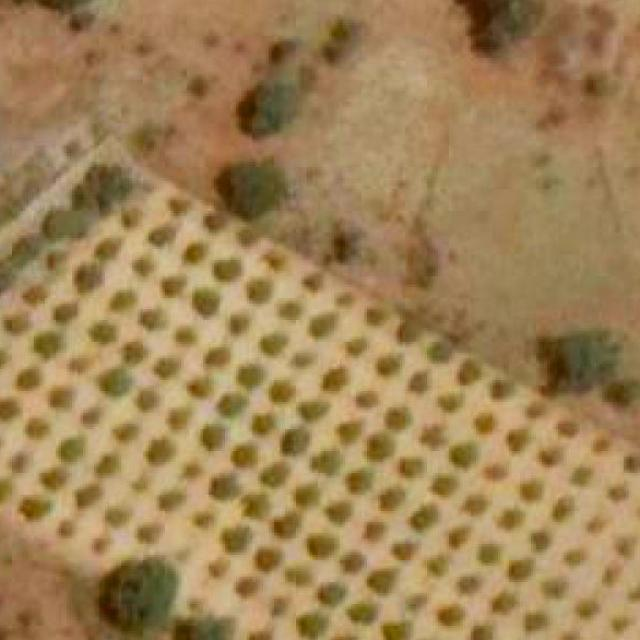Tree: (104, 555, 174, 634), (211, 154, 285, 220), (534, 334, 611, 392), (460, 0, 531, 52), (244, 85, 296, 138), (40, 205, 89, 248), (602, 373, 640, 413), (332, 10, 371, 46), (174, 617, 232, 640), (578, 68, 615, 102), (141, 435, 177, 465), (181, 68, 214, 100), (268, 34, 300, 65), (74, 262, 105, 293), (418, 421, 449, 451), (407, 503, 438, 531), (100, 367, 132, 394), (214, 391, 245, 416), (20, 495, 50, 520), (34, 329, 61, 356), (492, 587, 518, 615), (0, 268, 20, 304), (274, 511, 302, 536), (238, 494, 269, 516), (507, 558, 534, 583), (258, 462, 285, 487), (56, 438, 86, 460), (89, 320, 119, 342), (195, 290, 218, 318), (201, 424, 226, 449), (299, 615, 327, 637), (255, 547, 283, 569), (250, 416, 278, 438), (50, 302, 78, 324), (15, 367, 43, 389), (121, 342, 149, 364), (438, 604, 465, 626), (223, 528, 250, 550), (105, 506, 132, 528), (138, 309, 165, 331), (261, 334, 288, 356), (396, 457, 427, 476), (370, 569, 396, 591), (208, 476, 234, 498), (168, 408, 194, 430), (148, 225, 174, 247), (454, 573, 482, 593), (157, 489, 185, 509), (136, 388, 160, 411), (272, 380, 297, 402), (285, 429, 310, 451), (367, 434, 392, 456), (381, 487, 406, 509), (345, 470, 370, 492), (94, 238, 119, 260), (316, 451, 343, 471), (321, 584, 348, 604), (23, 284, 50, 304), (476, 544, 504, 563), (39, 468, 67, 487), (4, 315, 32, 334), (76, 484, 100, 506), (136, 522, 160, 544), (26, 418, 52, 438), (110, 289, 136, 309), (214, 260, 239, 280), (310, 535, 335, 555), (407, 369, 427, 394), (50, 388, 76, 407), (323, 367, 345, 389), (246, 280, 268, 302), (312, 312, 334, 334), (186, 374, 208, 396), (94, 454, 116, 476), (278, 300, 302, 320), (449, 522, 468, 547), (162, 276, 185, 296), (184, 240, 207, 260), (498, 511, 525, 528), (436, 394, 463, 411), (110, 424, 138, 440), (509, 429, 529, 451), (326, 500, 348, 520), (298, 482, 318, 504), (206, 557, 228, 577), (236, 227, 258, 247), (0, 399, 19, 422), (392, 542, 419, 558), (383, 623, 408, 640), (386, 410, 408, 429), (452, 446, 474, 465), (520, 481, 542, 500), (460, 362, 479, 384), (542, 579, 564, 598), (523, 612, 545, 631), (427, 555, 449, 574), (236, 577, 258, 596), (531, 528, 550, 550), (616, 539, 638, 558), (364, 516, 383, 538), (338, 424, 360, 443), (290, 350, 312, 369), (364, 306, 386, 325), (350, 604, 376, 620), (380, 355, 400, 375), (571, 464, 591, 484), (405, 593, 430, 609), (285, 566, 310, 582), (300, 402, 324, 418), (205, 211, 225, 230), (578, 598, 600, 615), (623, 580, 640, 602), (470, 623, 492, 640), (623, 451, 640, 473), (154, 358, 176, 375), (80, 407, 102, 424), (263, 252, 285, 269), (44, 252, 66, 269), (233, 446, 256, 462), (231, 315, 250, 334), (239, 367, 261, 383), (430, 342, 452, 358), (343, 553, 365, 569), (354, 391, 376, 407), (179, 462, 201, 478), (132, 258, 154, 274), (400, 323, 419, 340), (304, 274, 323, 291), (69, 358, 88, 375), (167, 198, 187, 214), (553, 497, 569, 517), (12, 451, 28, 471), (591, 438, 610, 454), (195, 511, 212, 528), (468, 498, 485, 514), (539, 449, 556, 465), (0, 481, 13, 500), (560, 631, 580, 640), (249, 631, 269, 640), (0, 351, 7, 367)
